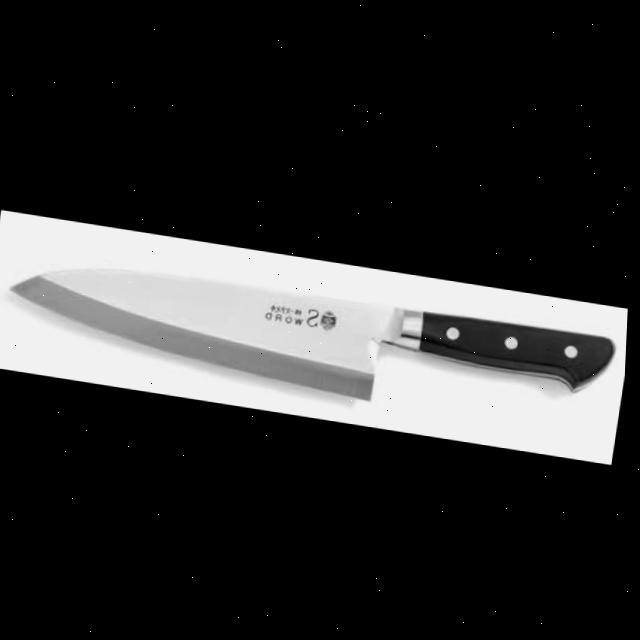Knife: (2, 241, 623, 428)
